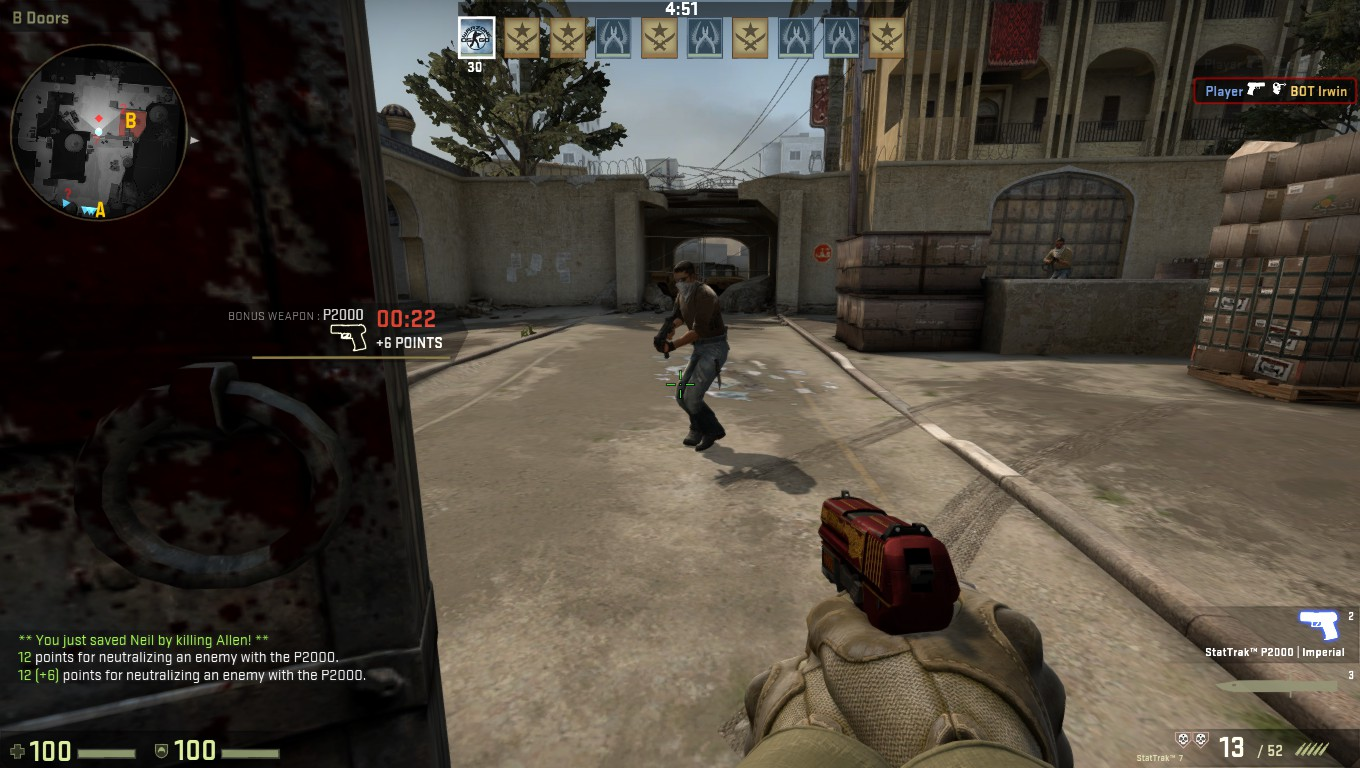t: (647, 258, 741, 454), (1047, 238, 1074, 285)
th: (669, 259, 707, 298)
